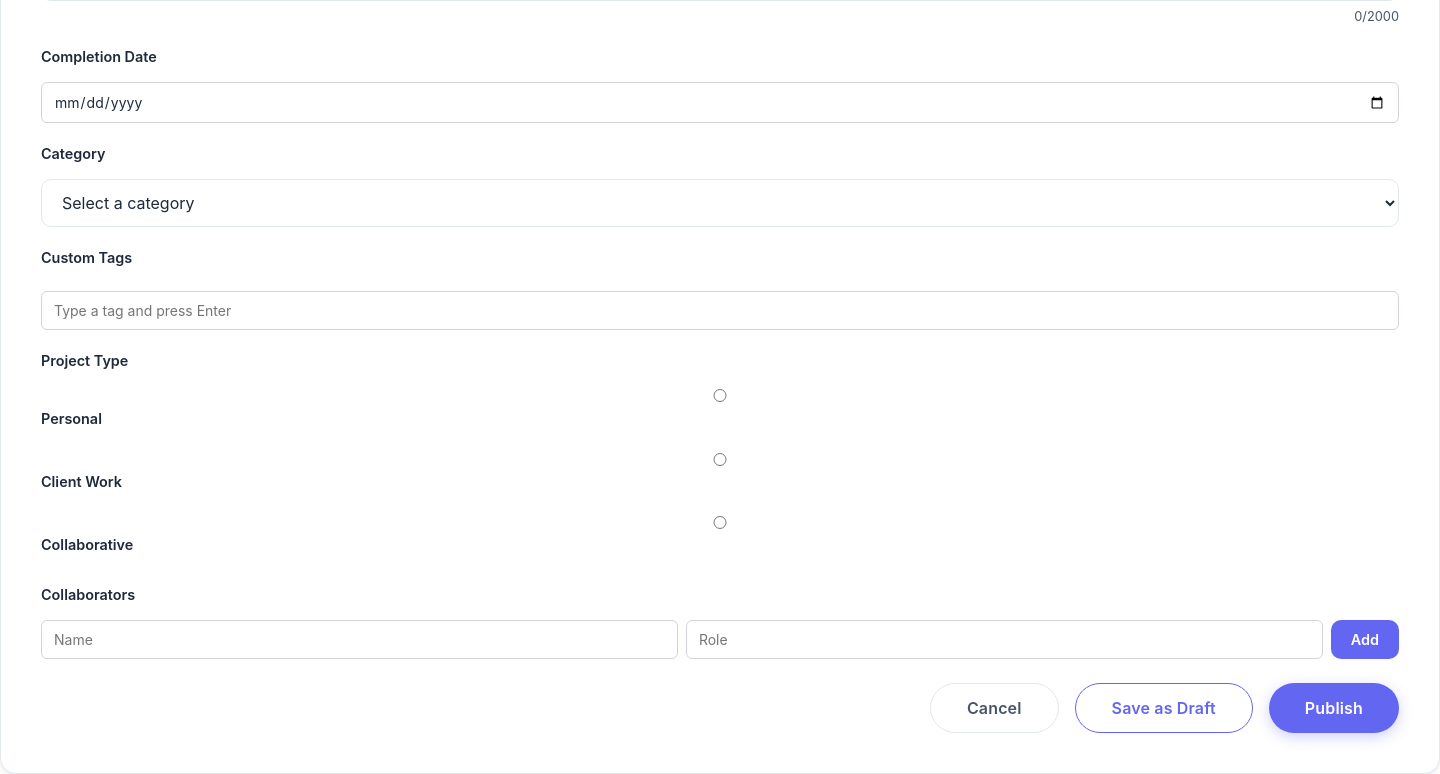
Test: ProjectForm › Draft validation › shows error when title is empty on save draft
(page scrolled)
Click the button "Save as Draft": x=1164, y=708 x1=1075 y1=683 x2=1253 y2=733
(page scrolled)
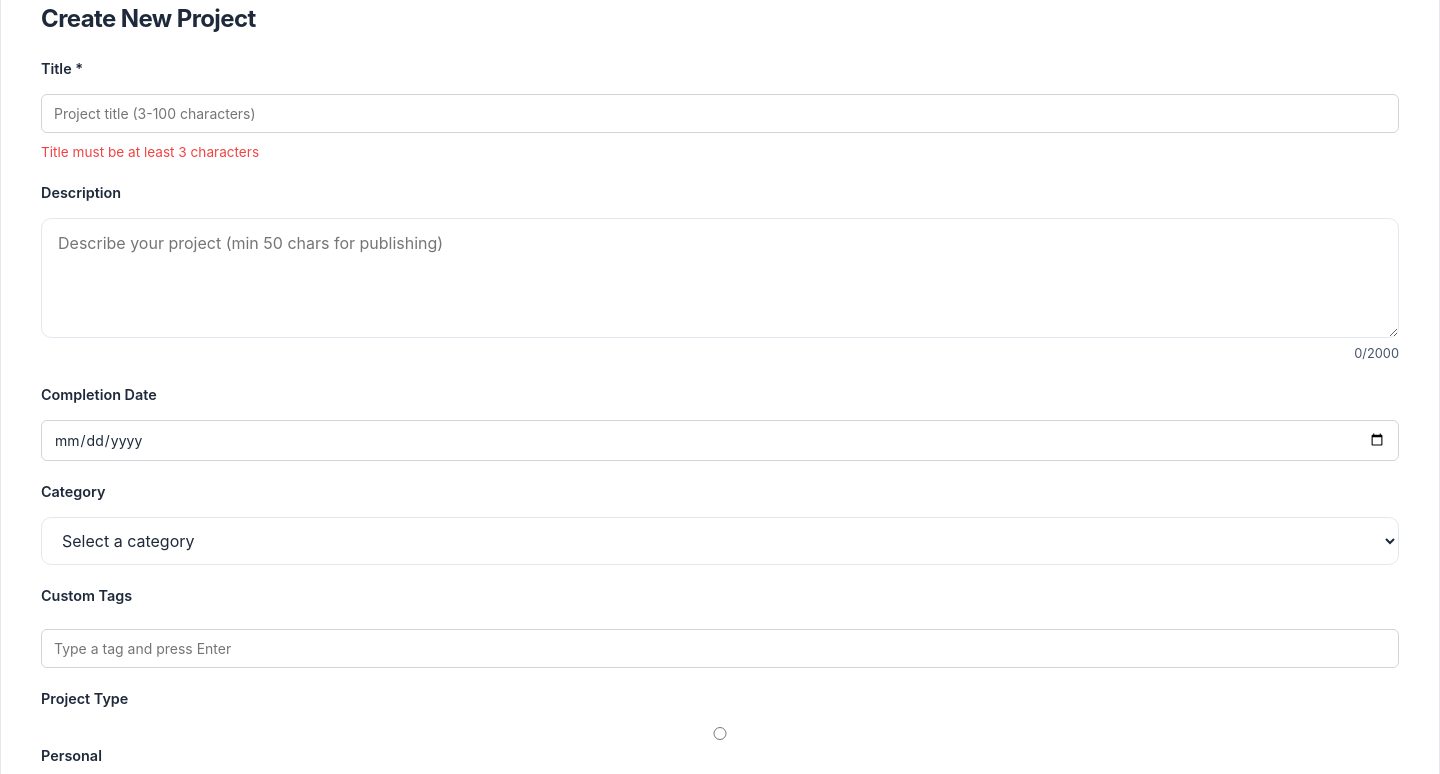
Expected: the text "Title must be at least 3 characters" is shown, x1=41 y1=144 x2=259 y2=160
